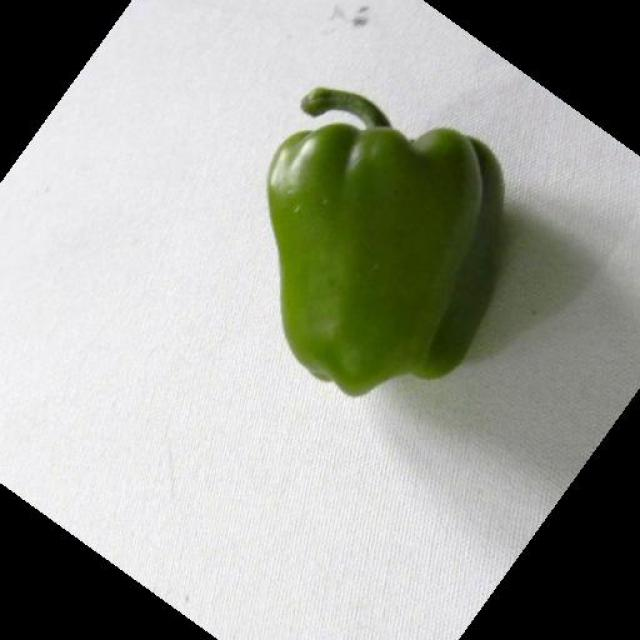Fresh_Capsicum: (263, 100, 486, 411)
